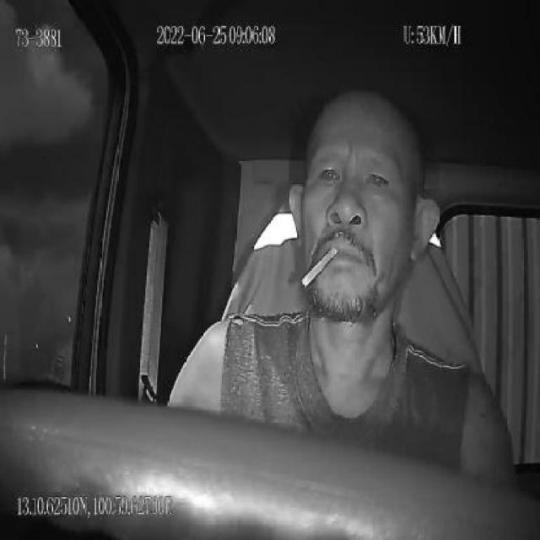smoking: (301, 248, 339, 287)
